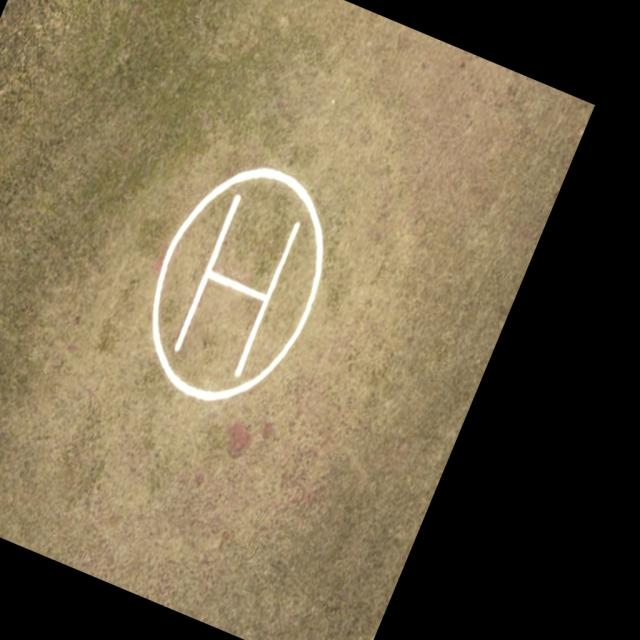helipad: (143, 158, 328, 405)
